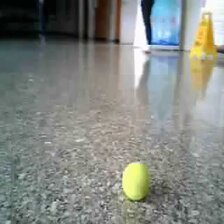tennis: (121, 162, 154, 202)
